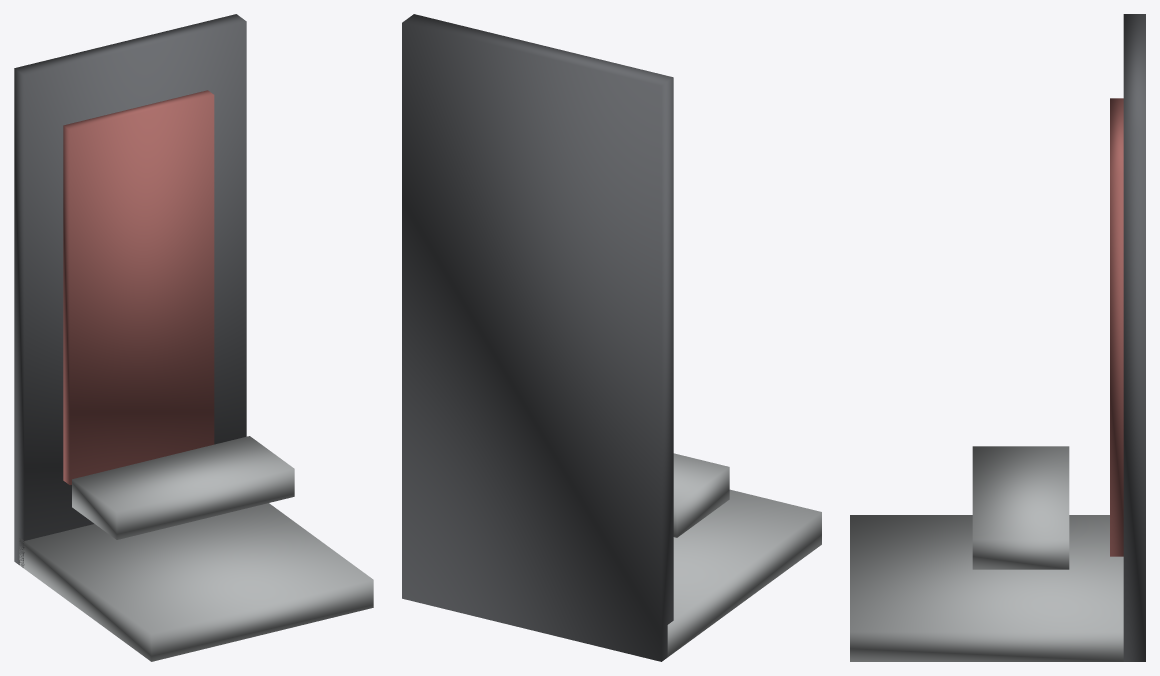
File: roof_access_hatch_stair_17.glb
3 renders of one model, left to right at view 1: azimuth 30°, elevation 25°; view 2: azimuth 150°, elevation 25°; view 3: azimuth 270°, elevation 25°, orthographic. The views are drawn at different scales.
Visible parts, largest first — view 1: world; view 2: world; view 3: world.
Boxes of the visible parts, x1=… form: world: x1=14, y1=14, x2=373, y2=661; world: x1=402, y1=14, x2=821, y2=661; world: x1=850, y1=14, x2=1145, y2=661.
Bounding box in the file's own units: 1 × 2.12 × 1.07.
